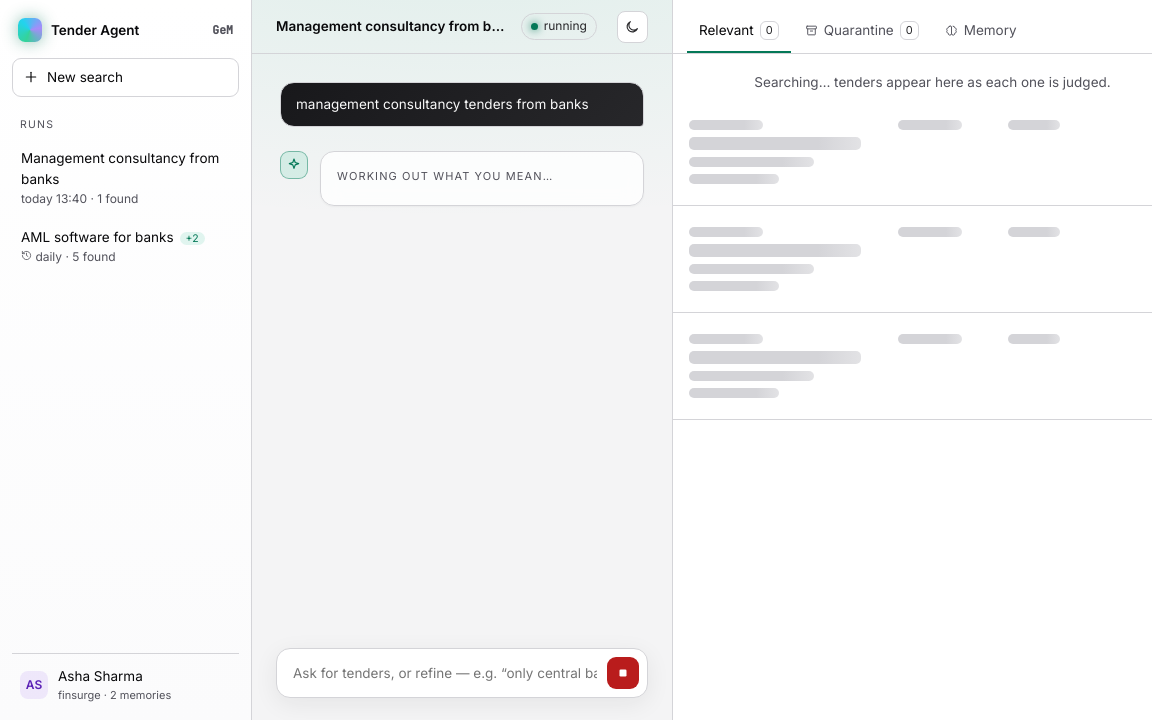
Test case: stopping a run › offers Stop only while running, and stops the run when clicked
Type "LOS tenders" into the field labelled "Ask for tenders".
click(445, 673); type("LOS tenders")  # box [291,662,599,684]
Then press Enter
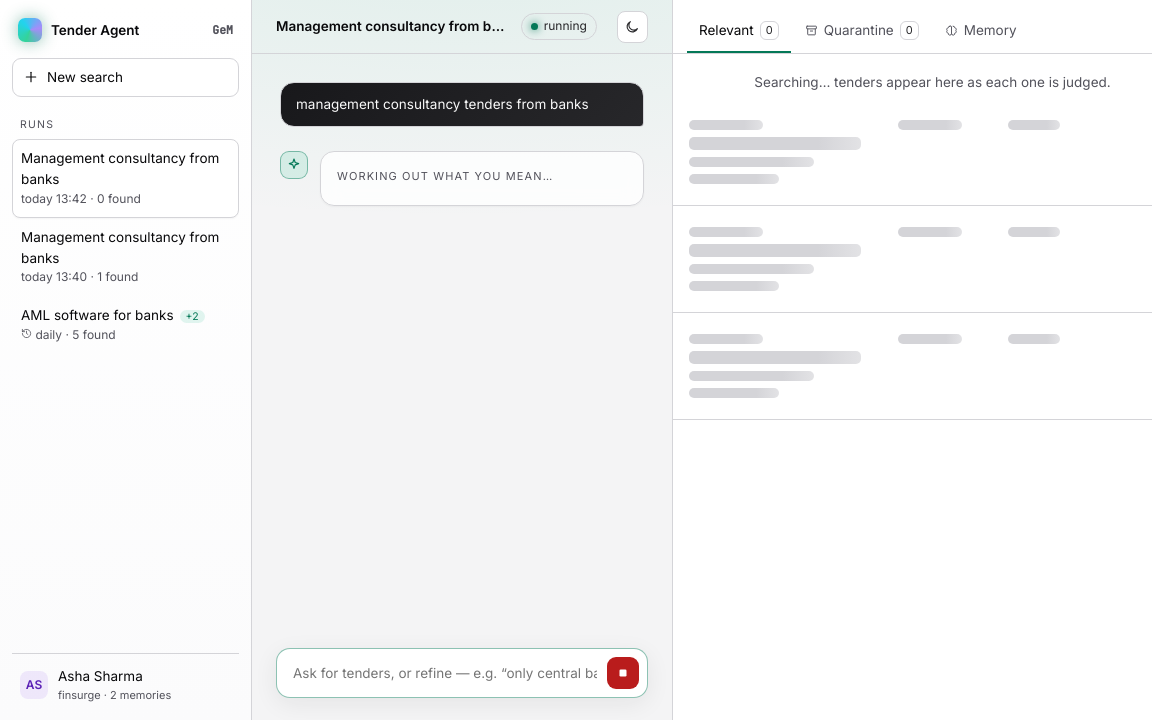
Expected: the text "running" is shown, [521,13,597,40]
Expected: the button "Stop" is not shown
Click the button named "Stop run".
click(623, 673)  # box [607,657,639,689]
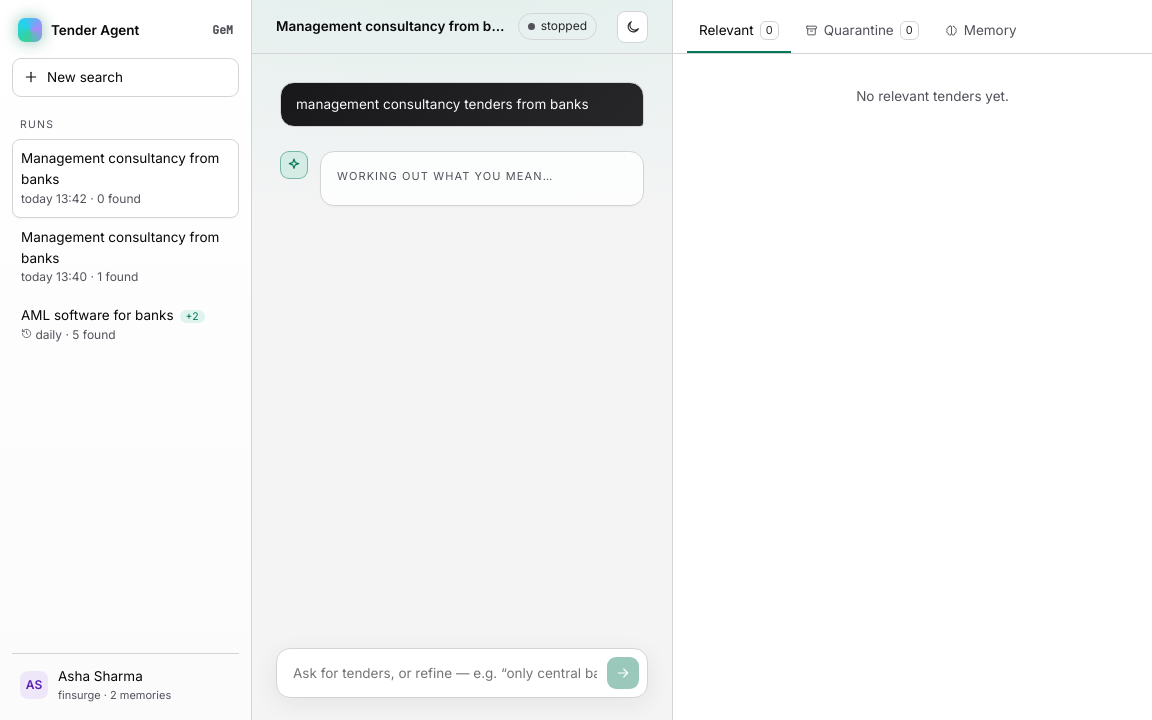
Expected: the text "stopped" is shown, [518,13,597,40]
